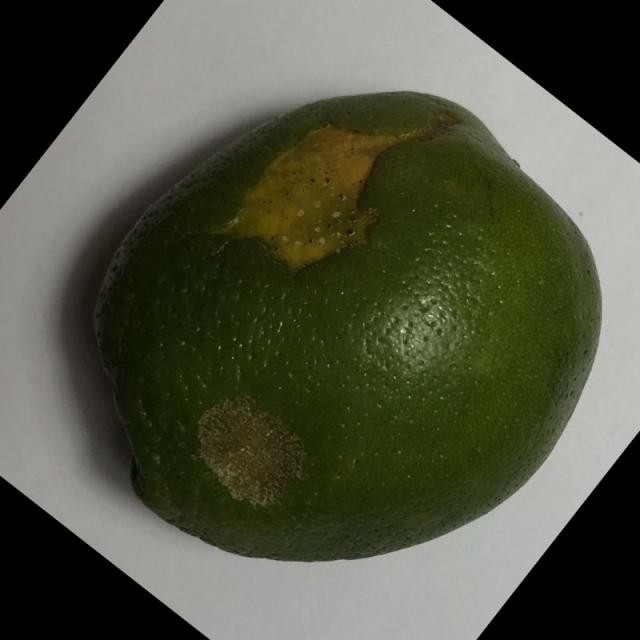canker: (72, 70, 618, 588)
